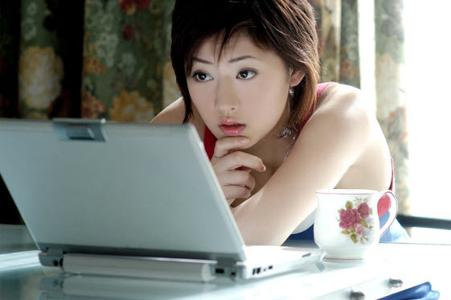person: (146, 2, 414, 245)
